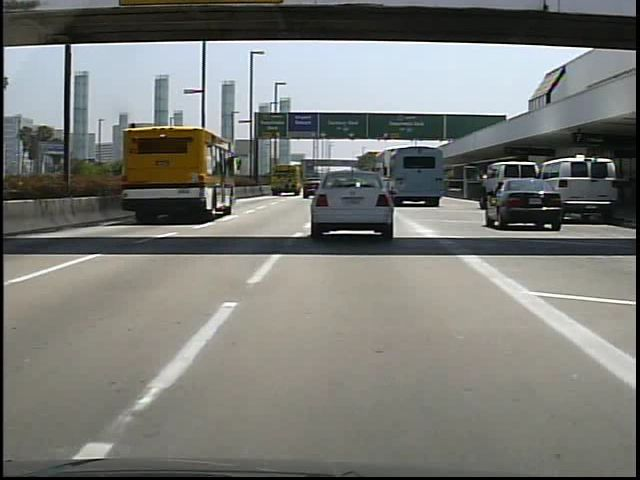car: (310, 168, 394, 238), (486, 176, 559, 232)
